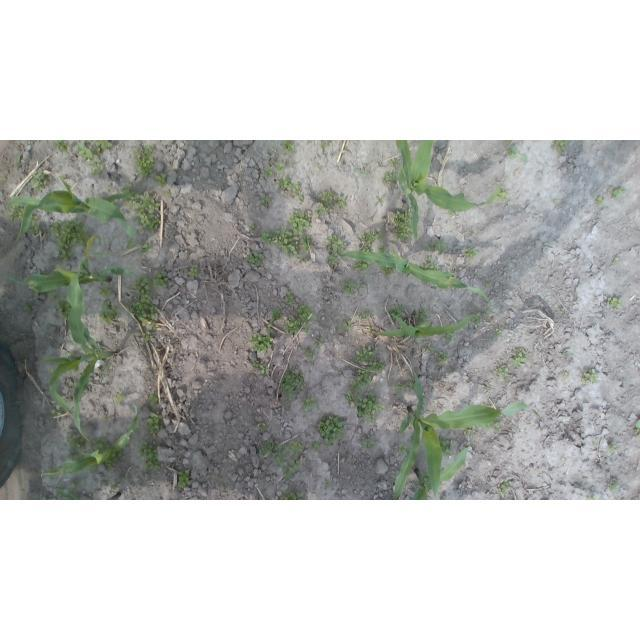Maize: (393, 373, 543, 500), (39, 256, 118, 444), (393, 141, 504, 240), (8, 175, 136, 248), (339, 249, 493, 302), (8, 236, 134, 292), (41, 405, 140, 475), (372, 312, 480, 340), (414, 446, 469, 500), (65, 491, 120, 500)
Weeds: (260, 228, 306, 265), (134, 193, 163, 234), (50, 217, 88, 247), (129, 294, 160, 327), (76, 141, 104, 176), (316, 414, 344, 446), (280, 369, 305, 404), (356, 392, 384, 423), (391, 207, 414, 241), (133, 144, 156, 177), (138, 438, 160, 472), (260, 441, 286, 468), (65, 431, 87, 461), (287, 208, 311, 232), (100, 302, 121, 326), (284, 316, 308, 336), (352, 369, 373, 391), (355, 346, 379, 365), (249, 333, 273, 352), (30, 168, 48, 193), (327, 236, 348, 257), (131, 275, 153, 295), (121, 182, 140, 204), (507, 145, 529, 164), (146, 411, 162, 437), (86, 141, 113, 156), (510, 348, 530, 368), (104, 450, 125, 469), (88, 436, 112, 452), (296, 304, 316, 323), (341, 280, 363, 296), (25, 211, 41, 233), (438, 434, 453, 457), (6, 204, 25, 222), (428, 239, 449, 255), (56, 300, 72, 321), (247, 251, 266, 267), (423, 256, 441, 272), (252, 360, 269, 376), (389, 304, 406, 320), (381, 171, 398, 187), (360, 231, 378, 246), (605, 296, 624, 310), (153, 271, 169, 287), (58, 248, 75, 263), (497, 479, 511, 497), (608, 187, 629, 199), (289, 439, 304, 455), (361, 435, 375, 452), (416, 307, 430, 324), (367, 360, 385, 373), (53, 140, 72, 152), (177, 470, 189, 489), (583, 369, 598, 384), (553, 141, 570, 154), (276, 176, 293, 189), (282, 490, 304, 500), (497, 365, 512, 379), (315, 202, 329, 217), (321, 191, 335, 206), (280, 140, 295, 154), (63, 486, 78, 500), (293, 183, 304, 202), (495, 187, 508, 203), (464, 248, 481, 260), (302, 236, 314, 253), (303, 396, 317, 410), (346, 390, 359, 405), (392, 380, 405, 395), (353, 260, 368, 273), (50, 402, 62, 418), (396, 444, 410, 457), (155, 172, 168, 186), (114, 389, 127, 403), (437, 352, 450, 365), (469, 313, 483, 325), (99, 286, 113, 298), (408, 375, 417, 393), (303, 348, 315, 361), (492, 421, 505, 433), (271, 307, 282, 321), (290, 458, 302, 470), (327, 253, 339, 265), (149, 392, 158, 408), (335, 196, 346, 209), (443, 331, 457, 341), (284, 291, 294, 305), (353, 167, 370, 175), (344, 320, 356, 331), (609, 480, 620, 492), (381, 266, 393, 277), (140, 242, 153, 252), (356, 244, 372, 252), (284, 467, 293, 481), (187, 267, 198, 278), (263, 166, 273, 178), (47, 469, 57, 481), (315, 336, 324, 349), (464, 426, 477, 435), (68, 477, 82, 485), (635, 419, 640, 440), (359, 309, 369, 319), (23, 303, 33, 313), (257, 422, 266, 433), (608, 442, 617, 453), (276, 162, 285, 173), (261, 196, 269, 208), (312, 441, 321, 451), (390, 158, 399, 168), (56, 487, 65, 497), (49, 292, 60, 300), (142, 331, 151, 340), (319, 140, 329, 148), (597, 195, 604, 206), (484, 310, 493, 318), (613, 257, 620, 267), (266, 323, 273, 333), (425, 346, 436, 352), (68, 380, 76, 388), (496, 328, 503, 337), (448, 208, 455, 217), (379, 245, 386, 254), (249, 224, 256, 233), (376, 233, 384, 240), (563, 371, 570, 379), (111, 484, 117, 493), (485, 281, 492, 288), (16, 156, 22, 164), (165, 188, 171, 196), (149, 325, 156, 331), (589, 495, 596, 500), (560, 308, 565, 313), (452, 270, 457, 275), (0, 178, 4, 184), (306, 140, 311, 144)
